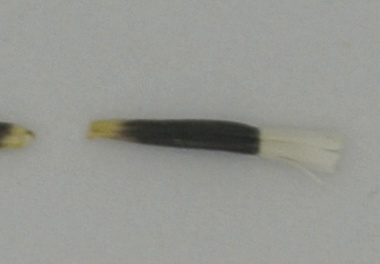เมล็ดดีติดกัน: (87, 116, 343, 186)
